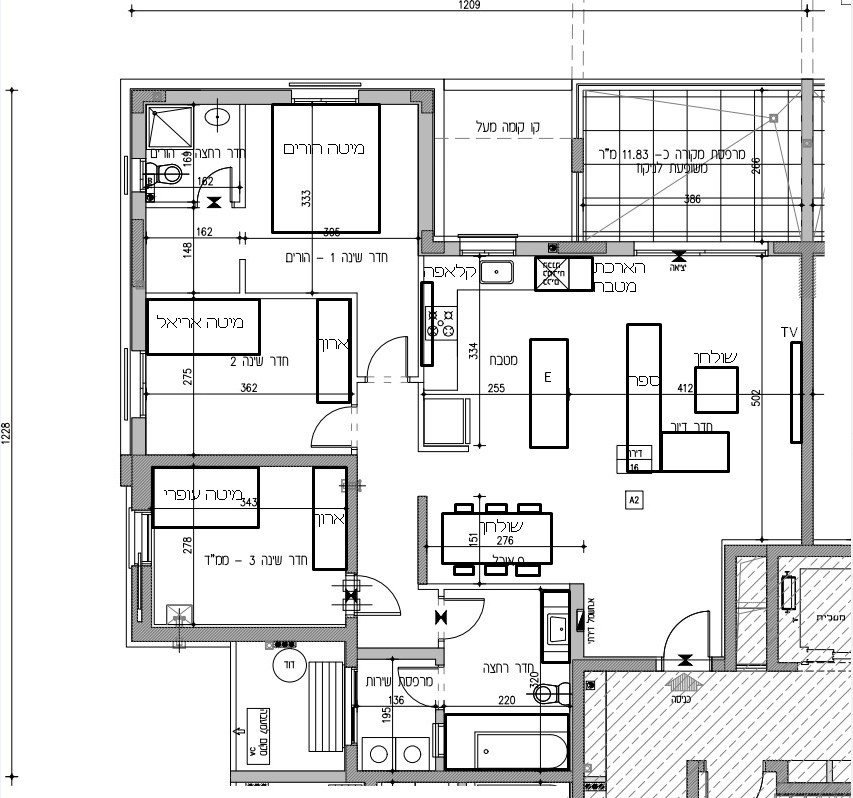door: (658, 605, 714, 655), (388, 664, 436, 713), (302, 405, 350, 453), (357, 571, 405, 619), (444, 594, 492, 642), (363, 332, 410, 375)
wall: (801, 241, 813, 546), (132, 627, 357, 642), (357, 770, 572, 782), (132, 456, 356, 467), (571, 659, 583, 794)
window: (631, 241, 767, 258), (341, 666, 358, 746), (292, 87, 359, 105), (130, 351, 147, 418), (134, 511, 154, 563), (459, 239, 516, 256), (130, 158, 145, 193)
